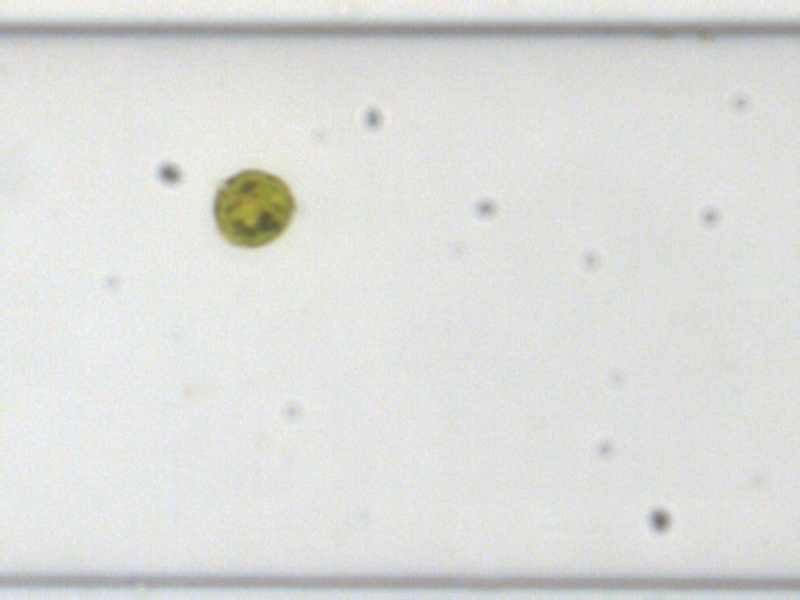Haematococcus: (206, 164, 298, 253)
